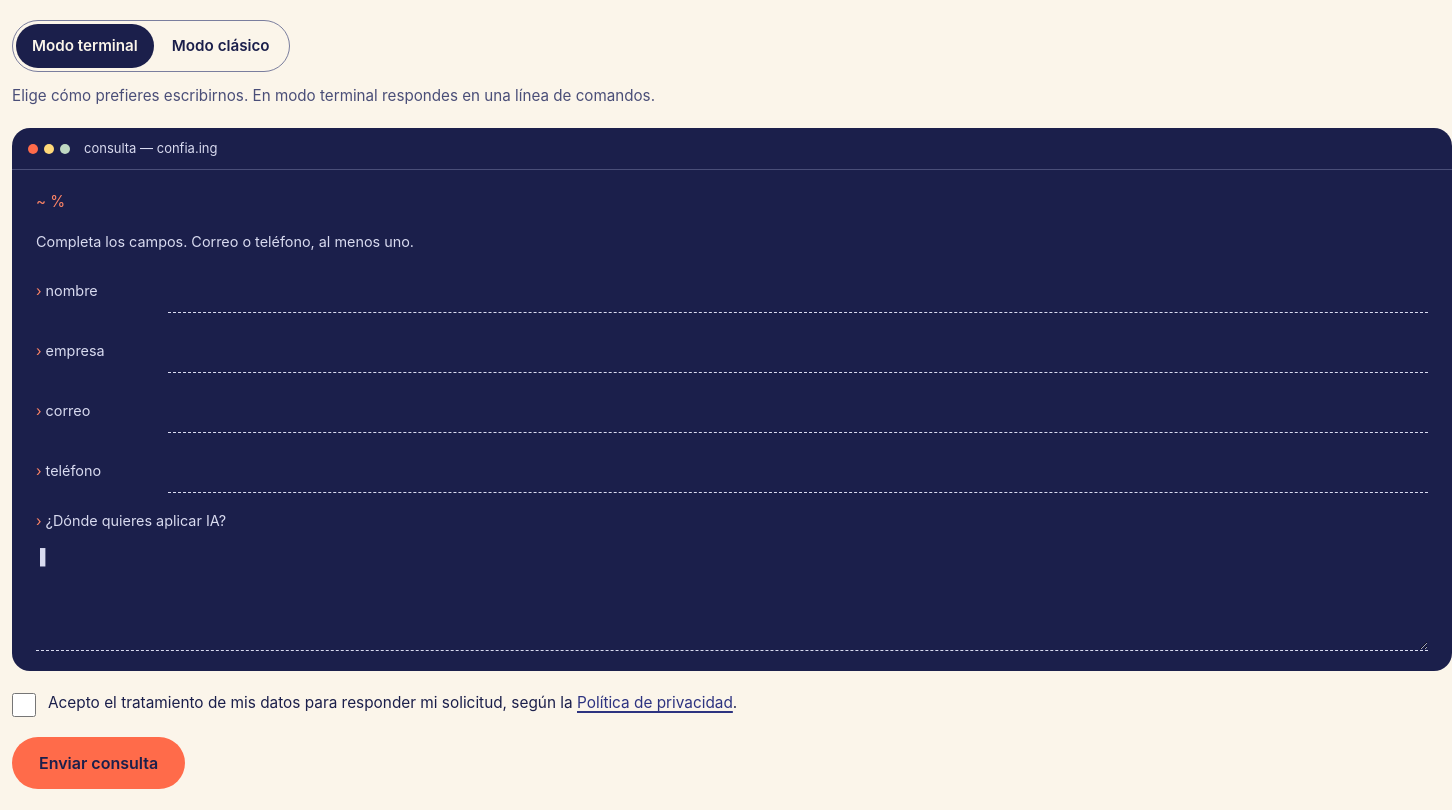
Test: formulario en modo terminal › al corregir un campo, su error desaparece
The image size is (1452, 810).
Type "ana@empresa.com" into the field labelled "Correo" at coordinates (798, 412), box [168, 390, 1428, 434]
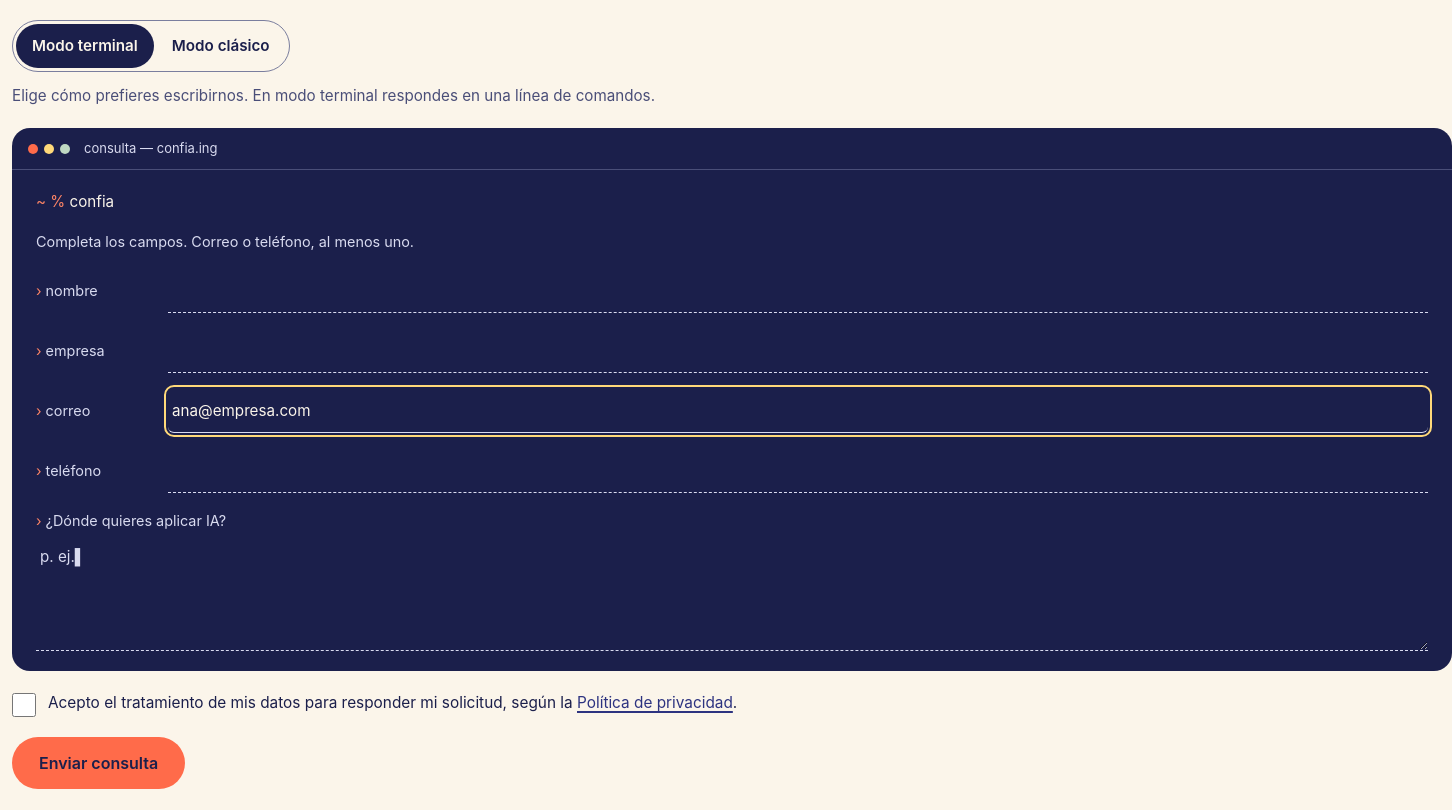
Click the checkbox at coordinates (24, 705), box [12, 693, 36, 717]
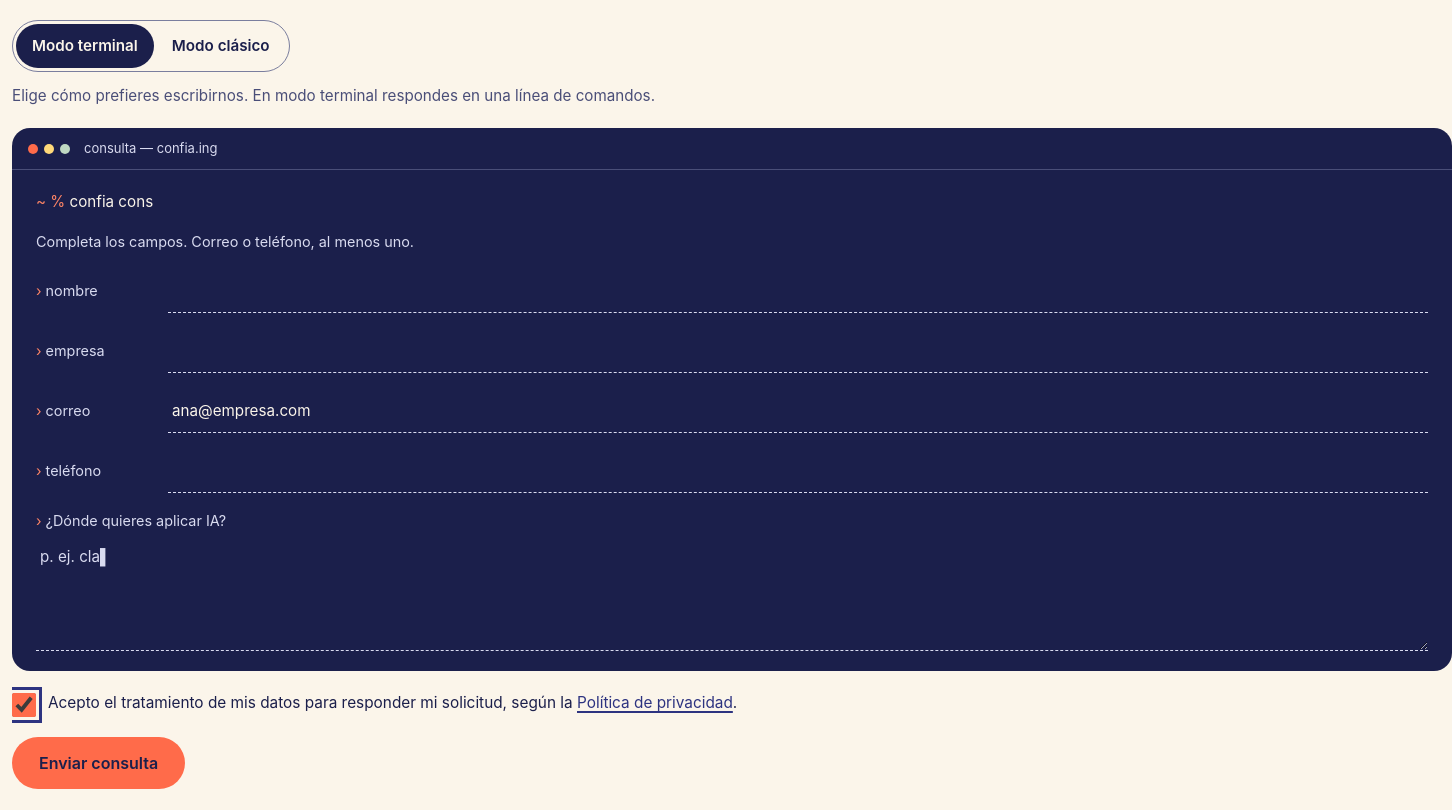
Click the button "Enviar consulta" at coordinates (99, 763), box [12, 737, 185, 789]
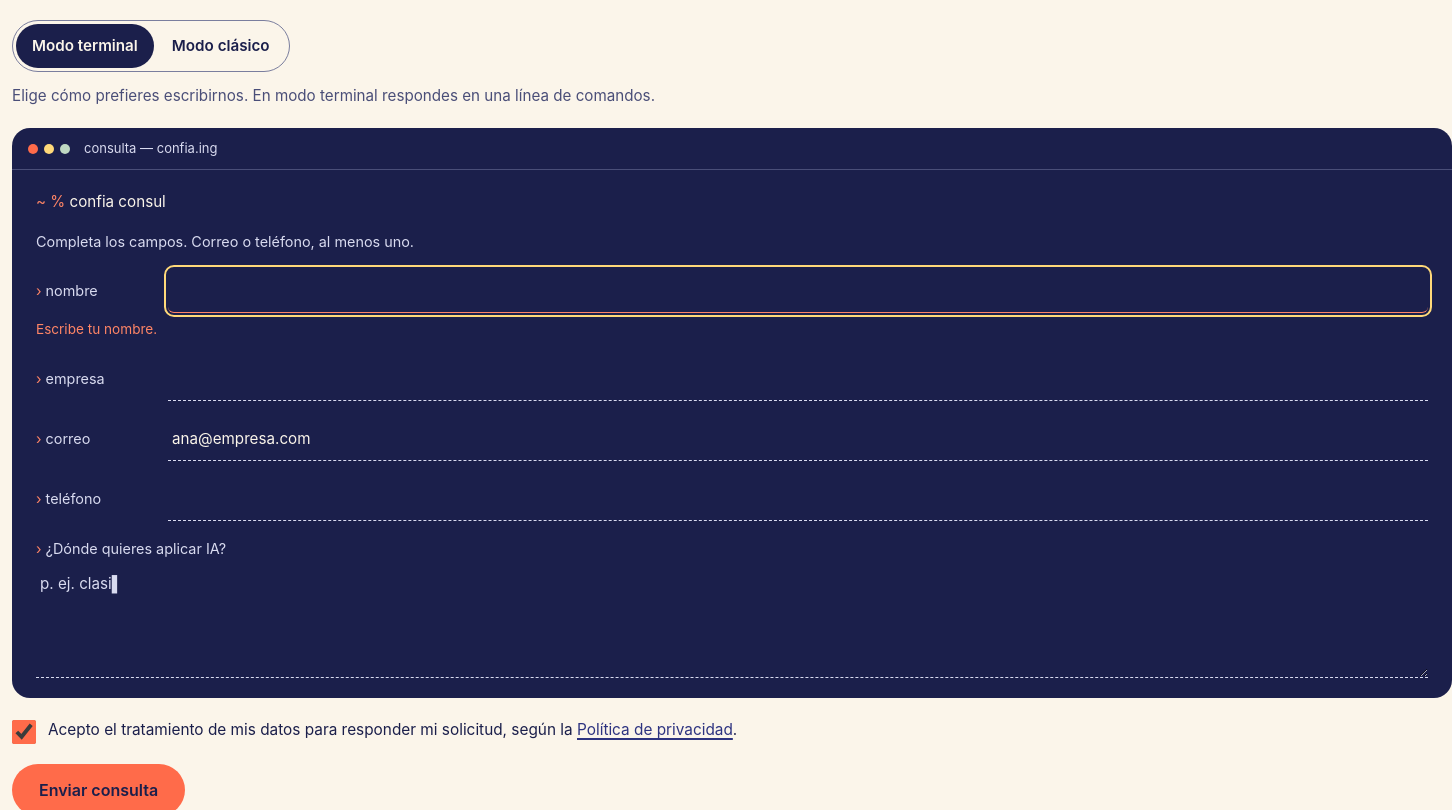
Expected: the text "Escribe tu nombre." is shown, [36, 322, 157, 338]
Type "Ana" into the field labelled "Nombre" at coordinates (798, 292), box [168, 270, 1428, 314]
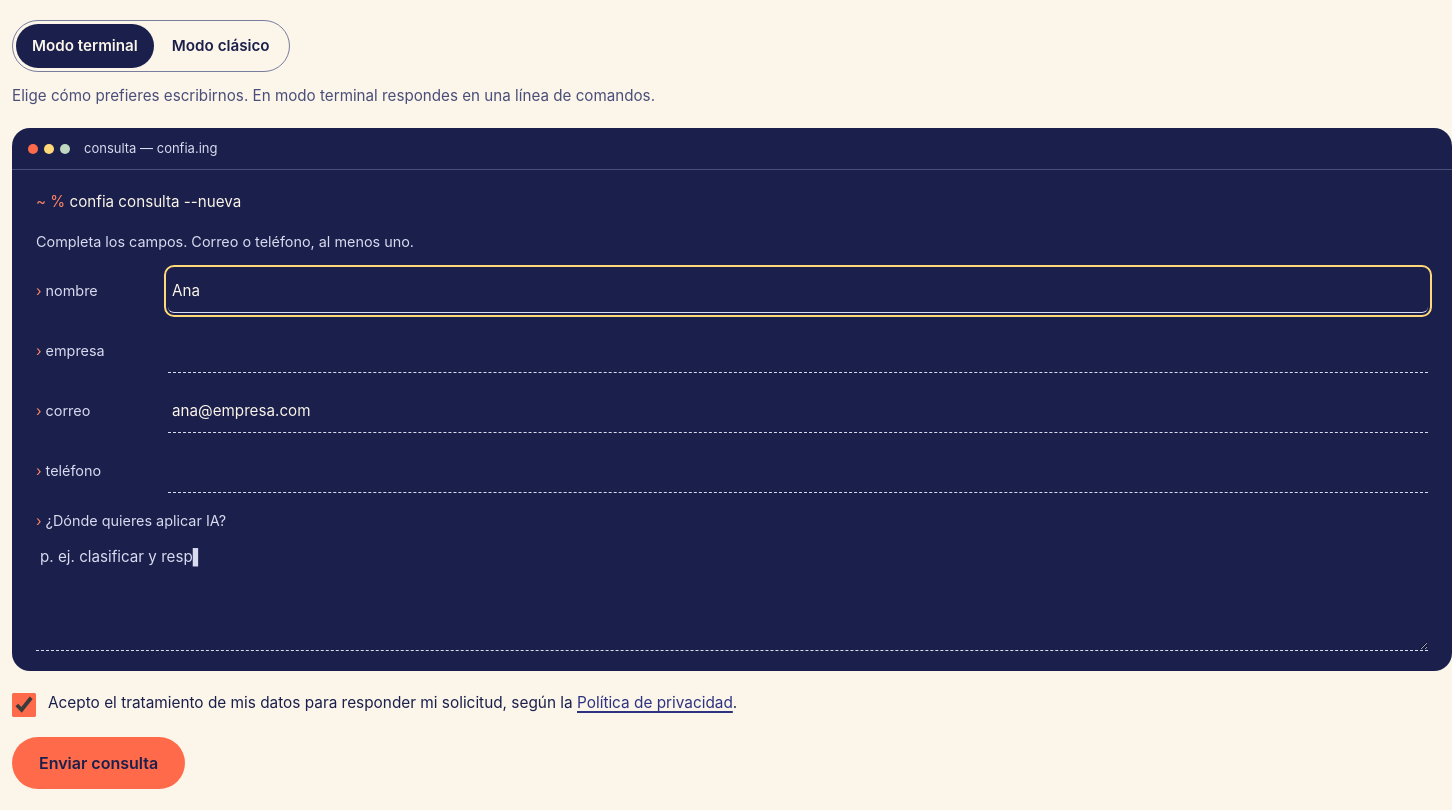
Expected: the text "Escribe tu nombre." is gone
